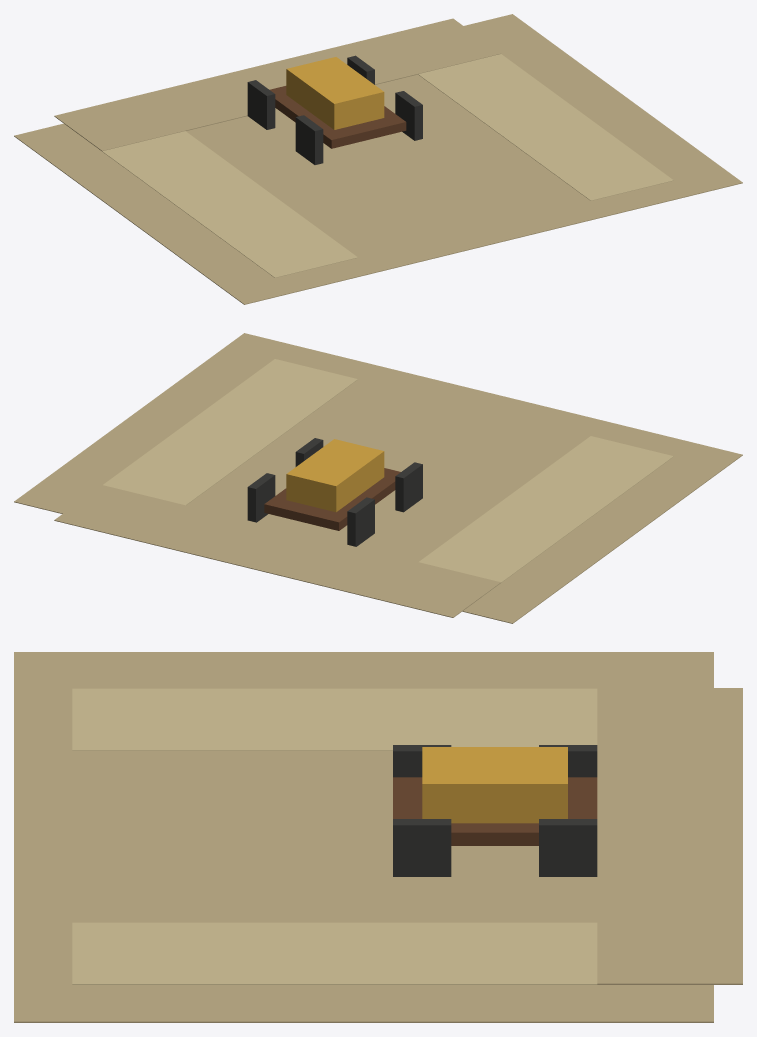
File: crown_road_caravanbend.glb
3 renders of one model, top to bottom at view 1: azimuth 30°, elevation 25°; view 2: azimuth 150°, elevation 25°; view 3: azimuth 270°, elevation 25°, orthographic. The views are drawn at different scales.
Parts seen in each view (by area): view 1: crown_road_caravanbend; view 2: crown_road_caravanbend; view 3: crown_road_caravanbend.
Boxes of the visible parts, left/top/right/bottom form: crown_road_caravanbend: left=14, top=14, right=742, bottom=304; crown_road_caravanbend: left=14, top=333, right=742, bottom=623; crown_road_caravanbend: left=14, top=652, right=742, bottom=1022.
Bounding box in the file's own units: 60 × 5.5 × 50.
